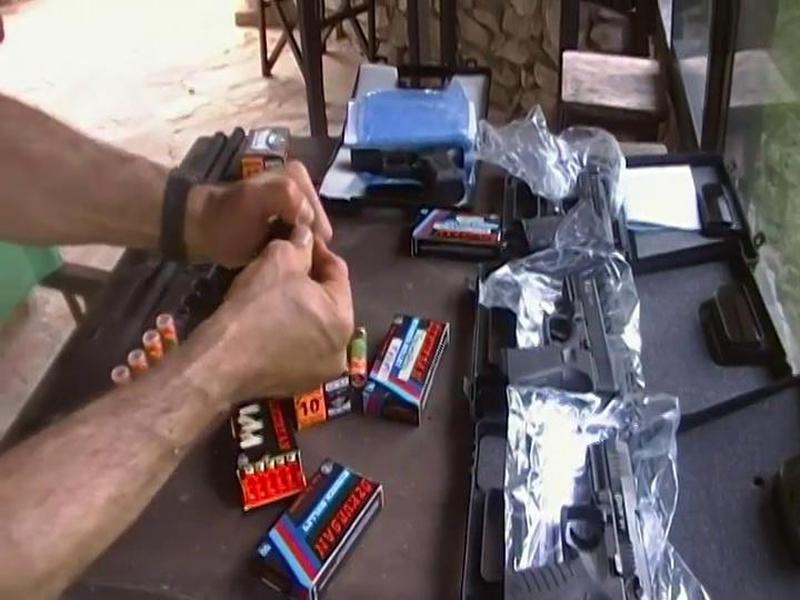Pistola: (487, 428, 680, 600), (499, 268, 642, 415)
